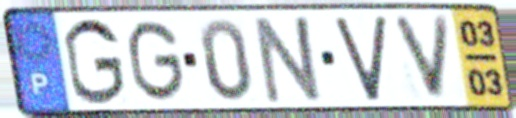0: (197, 15, 257, 105)
G: (60, 16, 129, 108), (126, 17, 188, 105)
N: (252, 12, 327, 106)
V: (388, 13, 454, 103), (331, 12, 389, 104)
